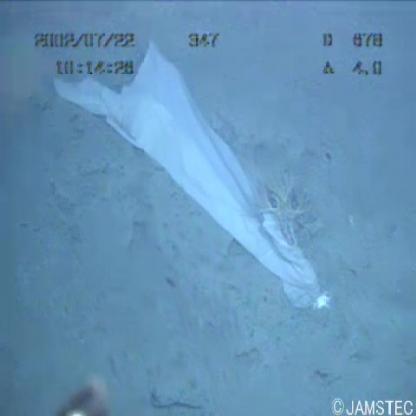Bio: (224, 158, 332, 256)
Rov: (47, 361, 110, 416)
Rác: (48, 34, 357, 330)
